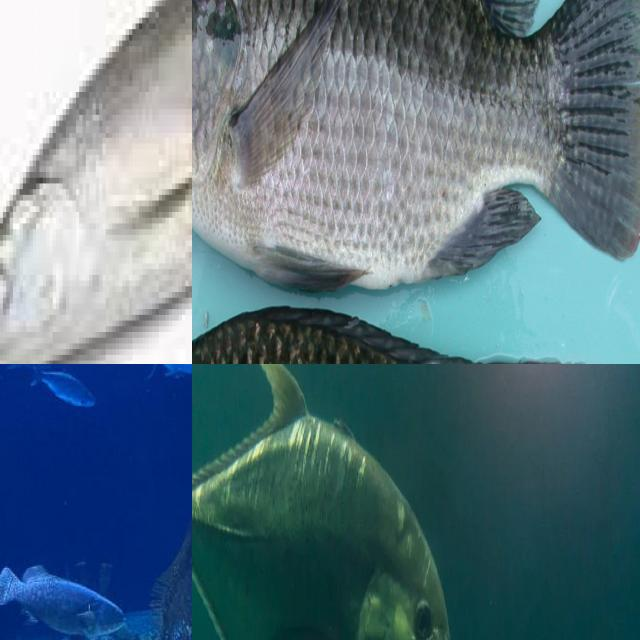fish: (0, 0, 192, 364), (192, 269, 640, 364)
